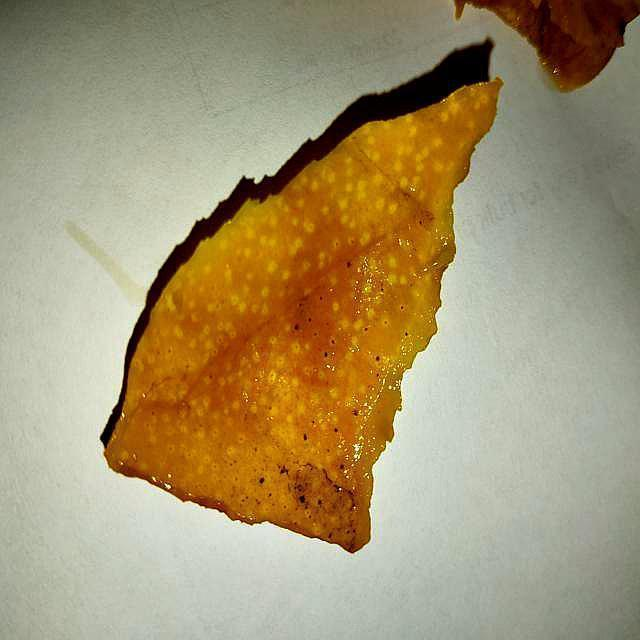Biodegradable: (101, 79, 519, 547)
